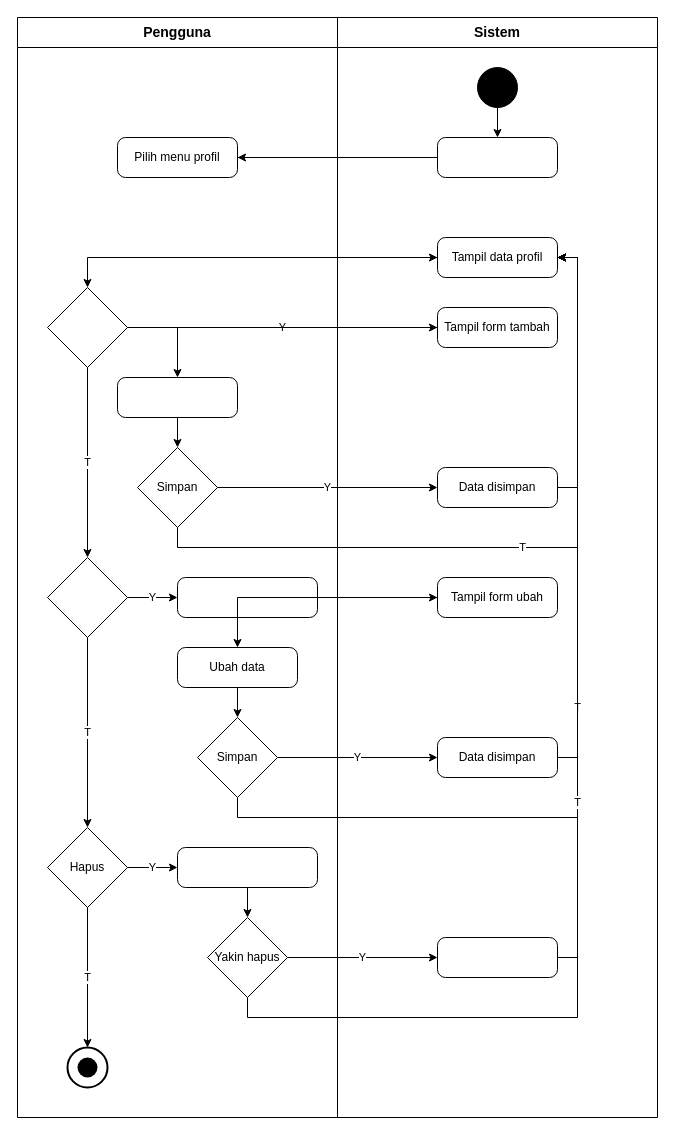
Image size: 675x1135. Some labels were removed from this diagram. Here are the shapes that lost their labels. From the top down, the centre of each, then its label:
point 497,157: Tampil beranda
point 87,327: Tambah
point 177,397: Tambah data
point 87,597: Ubah
point 247,597: Pilih data yang di ubah
point 247,867: Pilih data yang akan dihapus
point 497,957: Data dihapus
